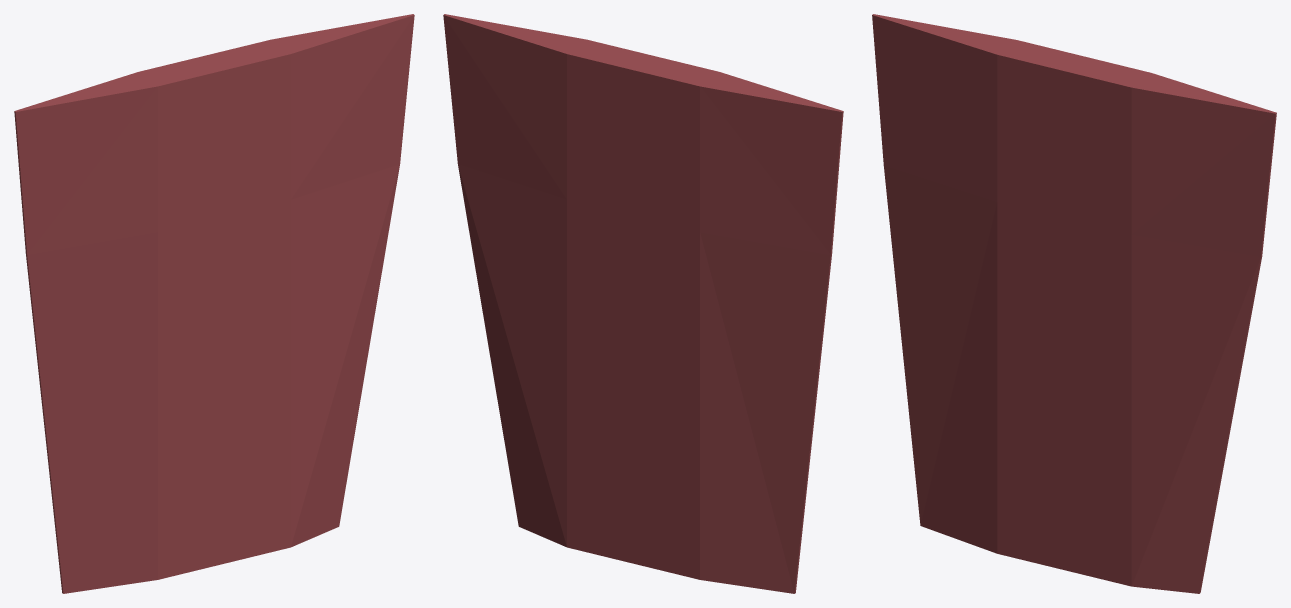
Rendered from frigate_rudder.gltf.
3 renders of one model, left to right at view 1: azimuth 30°, elevation 25°; view 2: azimuth 150°, elevation 25°; view 3: azimuth 330°, elevation 25°, orthographic.
Visible parts, largest first — view 1: bawah; view 2: bawah; view 3: bawah.
Part boxes in pixels (x1=…): bawah: x1=14, y1=14, x2=414, y2=593; bawah: x1=443, y1=14, x2=843, y2=593; bawah: x1=872, y1=14, x2=1276, y2=593.
Bounding box in the file's own units: 2.85 × 3.37 × 0.2452.
1 material, 1 textured.
